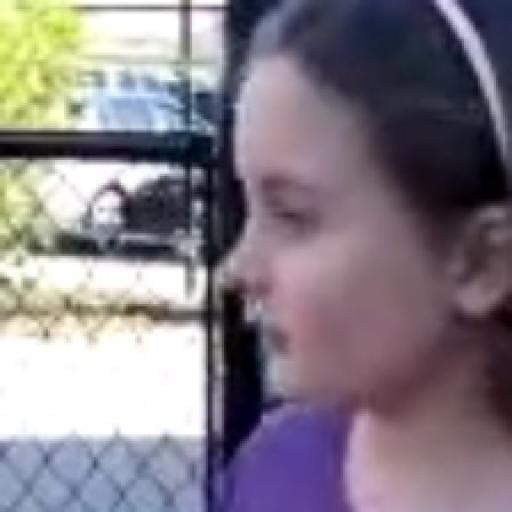Autism: (192, 45, 500, 419)
